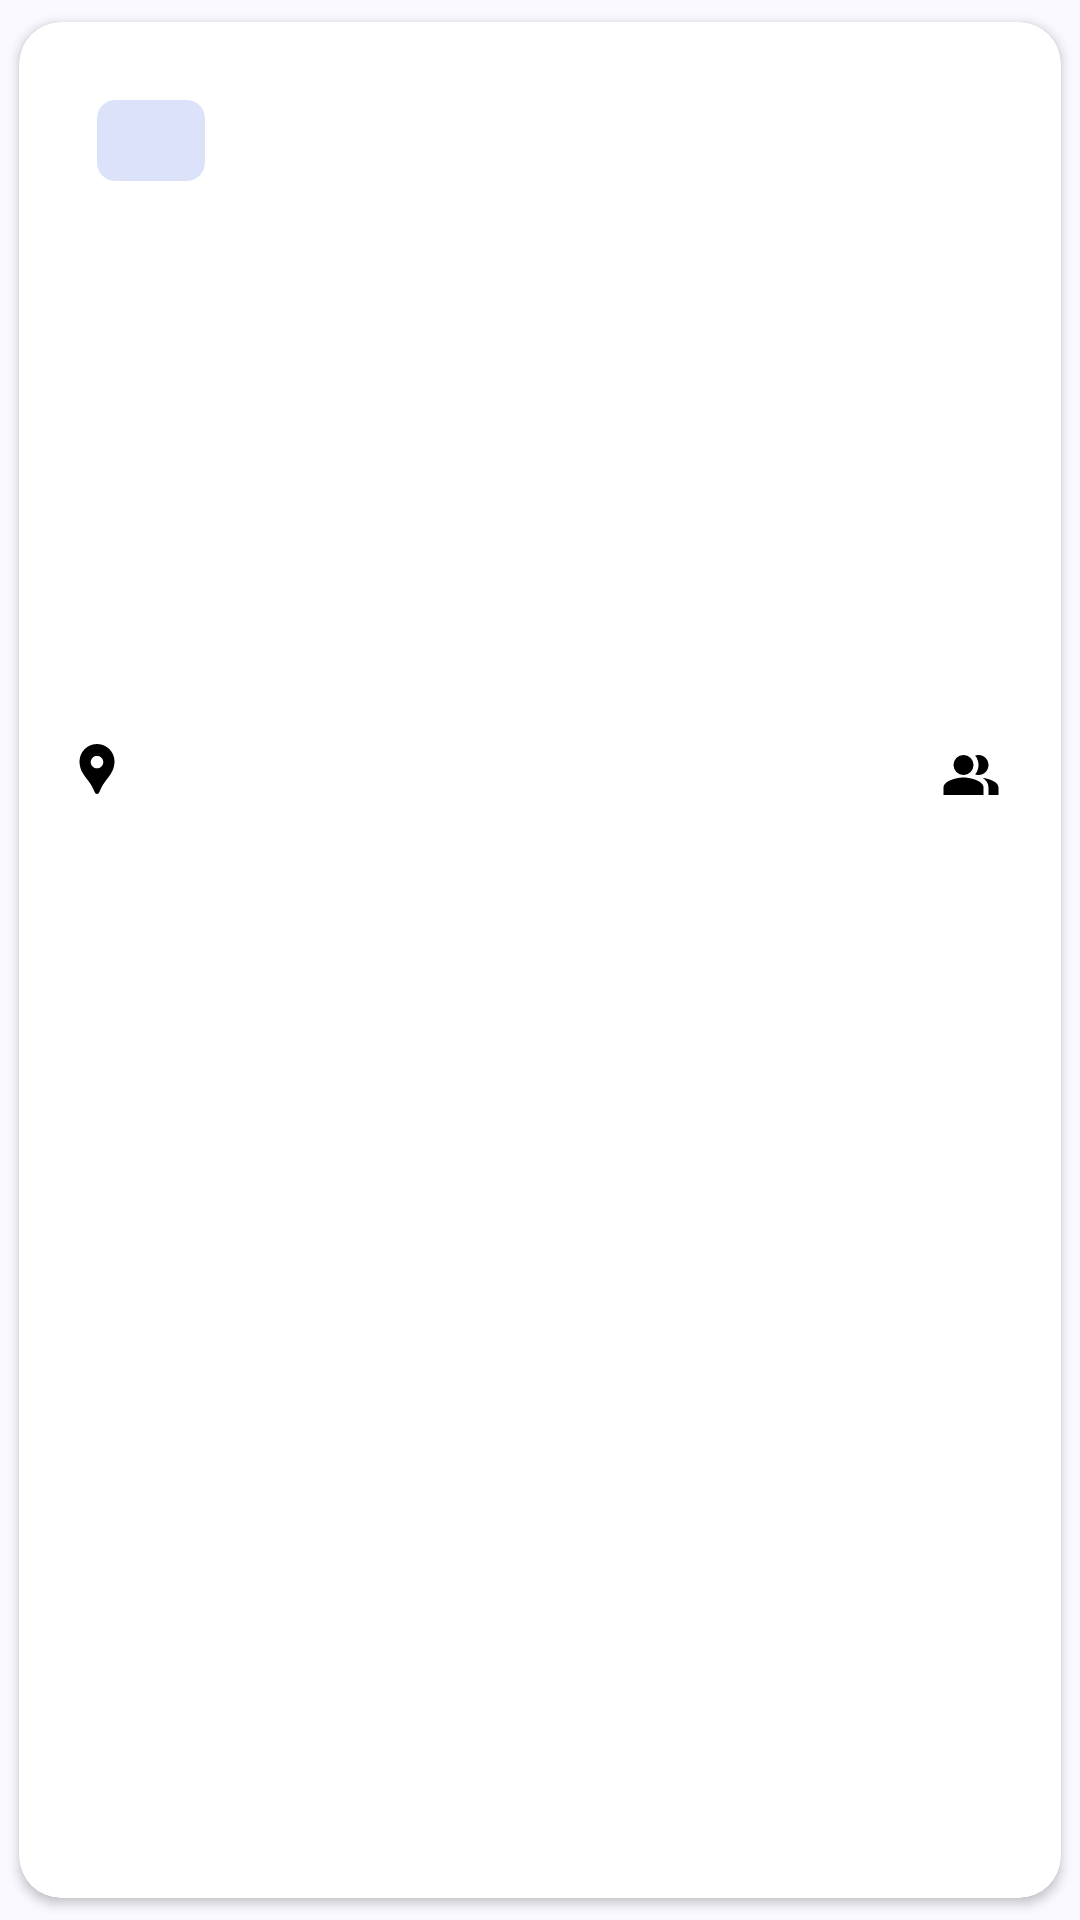

Icon click points for this 1080x1920 phone screenshot, format point (x, y):
location: point (97, 769)
participant: point (971, 775)
